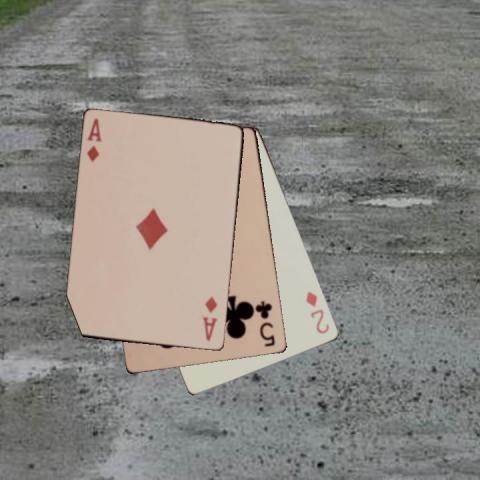2d: (303, 288, 331, 336)
5c: (254, 298, 276, 348)
Ad: (200, 293, 220, 343), (84, 115, 103, 164)
